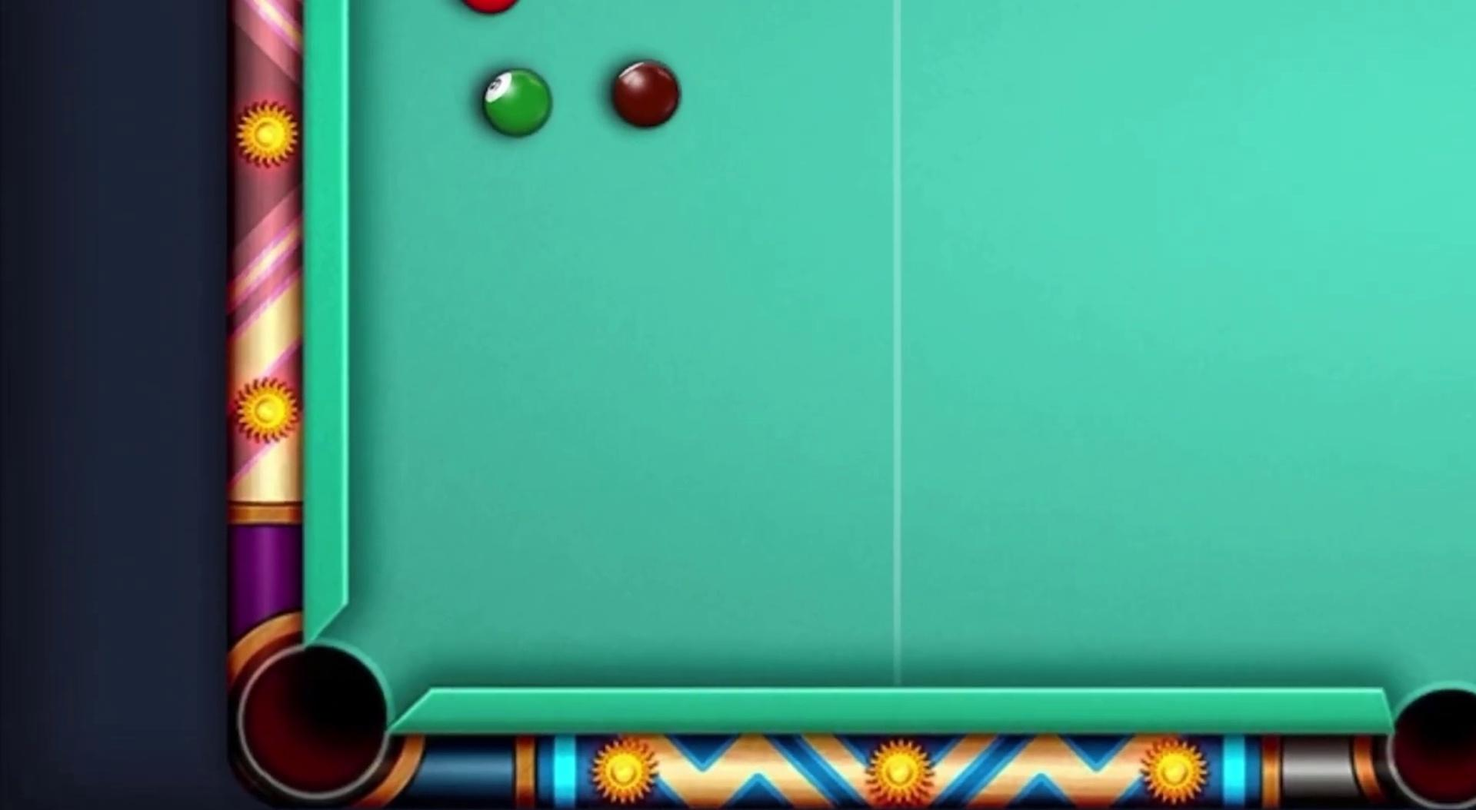Ball: (601, 55, 688, 132), (472, 61, 555, 139), (448, 0, 524, 19)
Hole: (218, 605, 436, 809), (1363, 661, 1475, 809)
